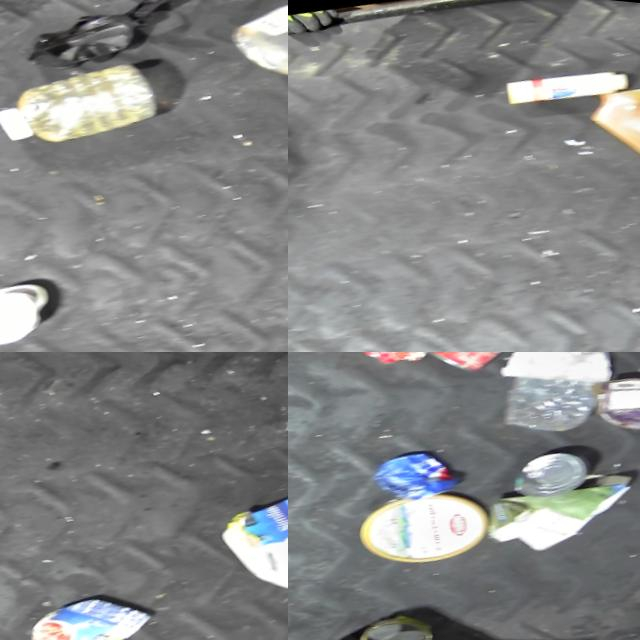can: (367, 431, 468, 507), (507, 431, 598, 499), (355, 596, 443, 640), (421, 352, 539, 376)
non_white_jug: (579, 38, 640, 225)
plastic_bottle: (483, 352, 630, 439)
